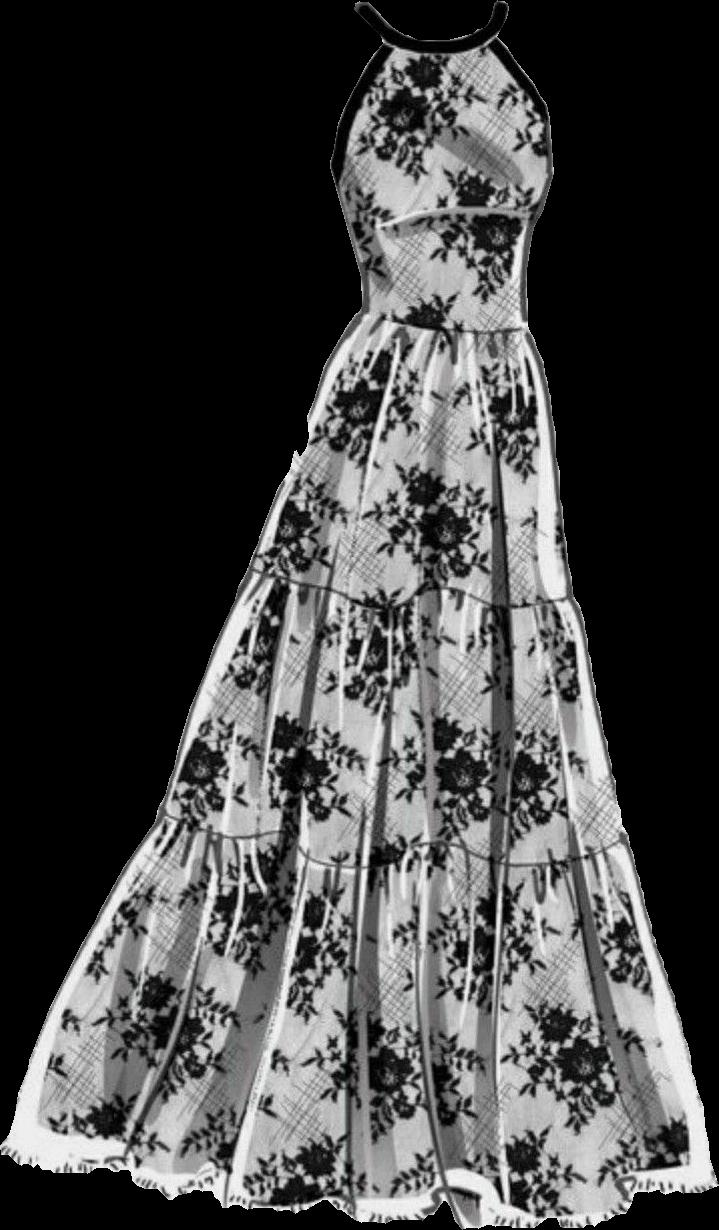Bodice: (330, 0, 553, 333)
Hemline: (0, 1143, 718, 1229)
Neckline: (354, 0, 507, 49)
Skirt: (0, 312, 717, 1228)
Waistline: (147, 807, 630, 882), (243, 565, 575, 621), (356, 304, 528, 336)
